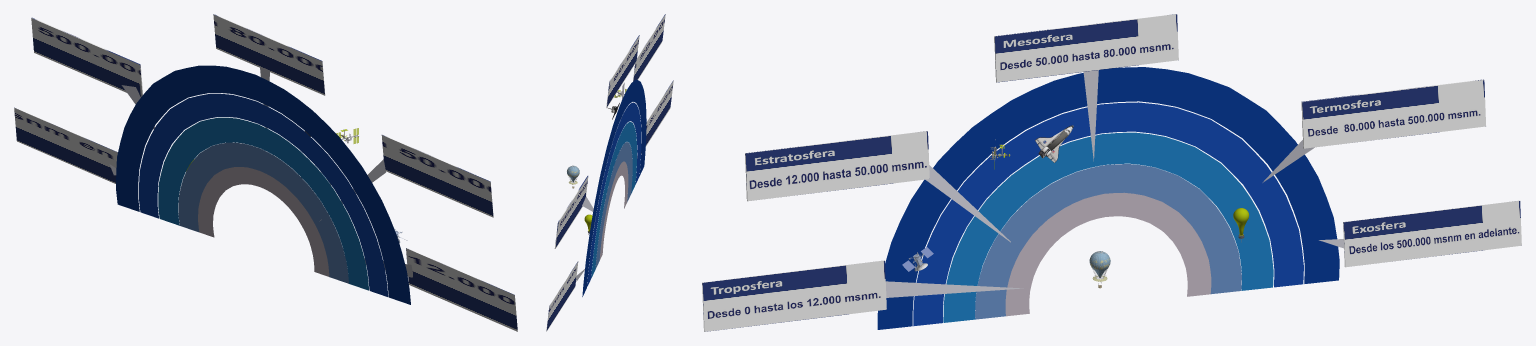
File: ADMOSFERAS.fbx
The picture shows the model from 3 angles, left to right: view 1: azimuth 30°, elevation 25°; view 2: azimuth 150°, elevation 25°; view 3: azimuth 270°, elevation 25°; orthographic projection. The views are drawn at different scales.
Visible parts, largest first — view 1: Circle_Circle.005, Cube.003_Cube.005, Cube.000_Cube.002, Cube.001_Cube.003, Cube.002_Cube.004, Cube.004_Cube.006; view 2: Circle_Circle.005, Cube.002_Cube.004, Cube.001_Cube.003, Cube.000_Cube.002, Cube.004_Cube.006, Cube.003_Cube.005, Mesh339_Componente_10_15_Group79_Group78_Group1_Model; view 3: Circle_Circle.005, Cube.003_Cube.005, Cube.000_Cube.002, Cube.002_Cube.004, Cube.001_Cube.003, Cube.004_Cube.006, Plane, Plane.001, Plane.002, spaceshutt_spaceshutt.001.
Part boxes in pixels (x1,y1,x2,y2): Circle_Circle.005: [116, 65, 410, 304]; Cube.003_Cube.005: [406, 248, 517, 331]; Cube.000_Cube.002: [381, 134, 493, 217]; Cube.001_Cube.003: [213, 14, 325, 95]; Cube.002_Cube.004: [31, 17, 142, 96]; Cube.004_Cube.006: [14, 107, 117, 183]; Circle_Circle.005: [582, 79, 646, 296]; Cube.002_Cube.004: [554, 176, 588, 248]; Cube.001_Cube.003: [606, 35, 639, 107]; Cube.000_Cube.002: [633, 14, 665, 81]; Cube.004_Cube.006: [546, 261, 578, 331]; Cube.003_Cube.005: [641, 80, 673, 153]; Mesh339_Componente_10_15_Group79_Group78_Group1_Model: [567, 165, 579, 188]; Circle_Circle.005: [877, 67, 1339, 329]; Cube.003_Cube.005: [702, 260, 886, 331]; Cube.000_Cube.002: [745, 131, 929, 201]; Cube.002_Cube.004: [1301, 79, 1485, 148]; Cube.001_Cube.003: [994, 14, 1178, 82]; Cube.004_Cube.006: [1343, 200, 1521, 267]; Plane: [885, 281, 1023, 297]; Plane.001: [925, 165, 1010, 242]; Plane.002: [1083, 70, 1098, 161]; spaceshutt_spaceshutt.001: [1035, 125, 1073, 162].
Size of the model in its own units: 949 by 1222 by 3192.
